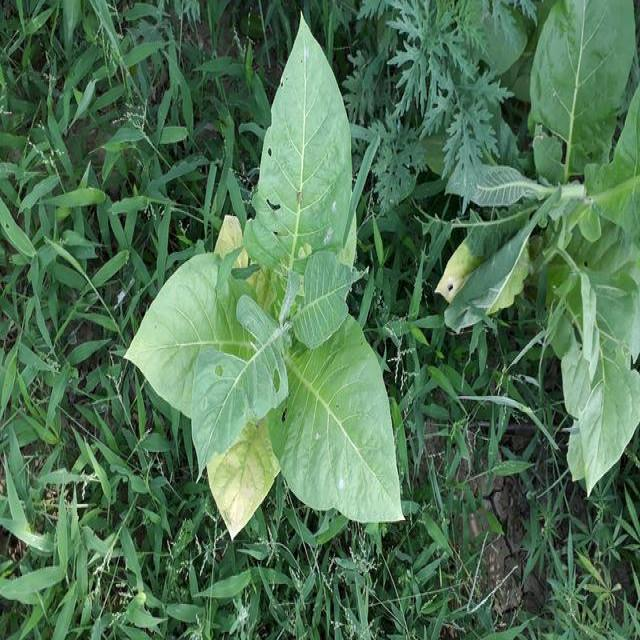crop: (122, 16, 408, 536), (509, 0, 640, 494)
